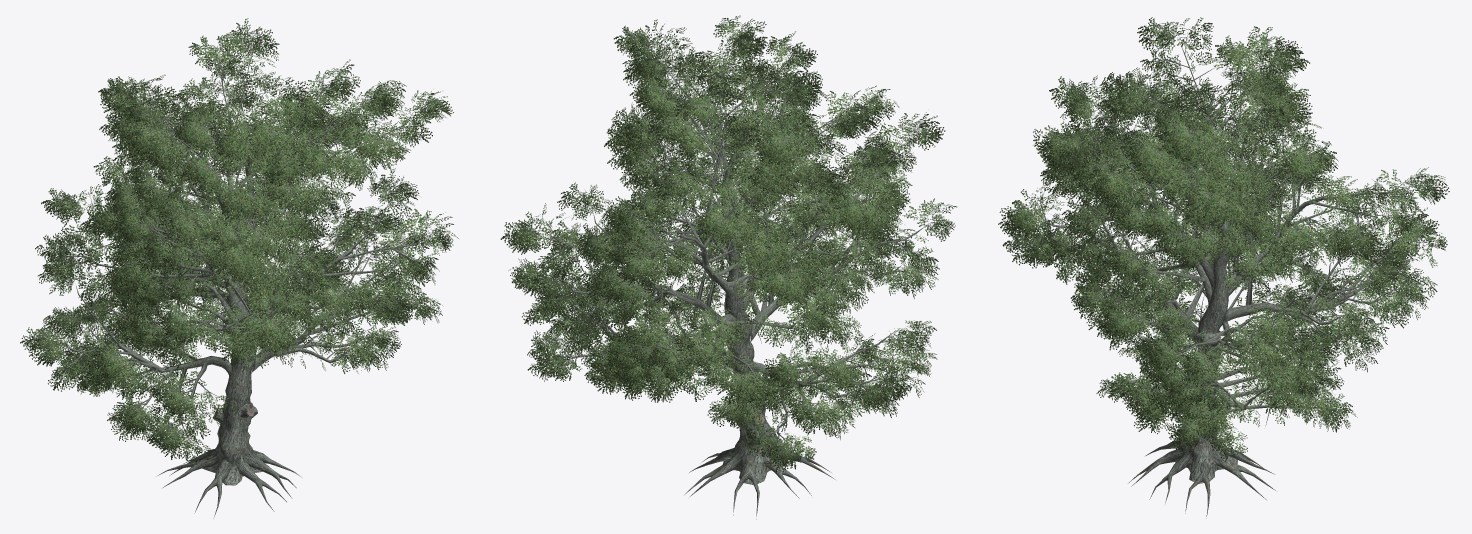
The model's file is speedtree-orca-white-oak-evaluation.glb.
3 renders of one model, left to right at view 1: azimuth 30°, elevation 25°; view 2: azimuth 150°, elevation 25°; view 3: azimuth 270°, elevation 25°, orthographic.
Parts seen in each view (by area): view 1: ForestOak_SpeedTree_ORCA_Evaluation; view 2: ForestOak_SpeedTree_ORCA_Evaluation; view 3: ForestOak_SpeedTree_ORCA_Evaluation.
Part boxes in pixels (bbox=[...]): ForestOak_SpeedTree_ORCA_Evaluation: bbox=[20, 18, 458, 518]; ForestOak_SpeedTree_ORCA_Evaluation: bbox=[500, 15, 956, 519]; ForestOak_SpeedTree_ORCA_Evaluation: bbox=[998, 17, 1449, 518].
Bounding box in the file's own units: 15.83 × 16 × 14.86.
Materials: 4 (4 with a texture image).
